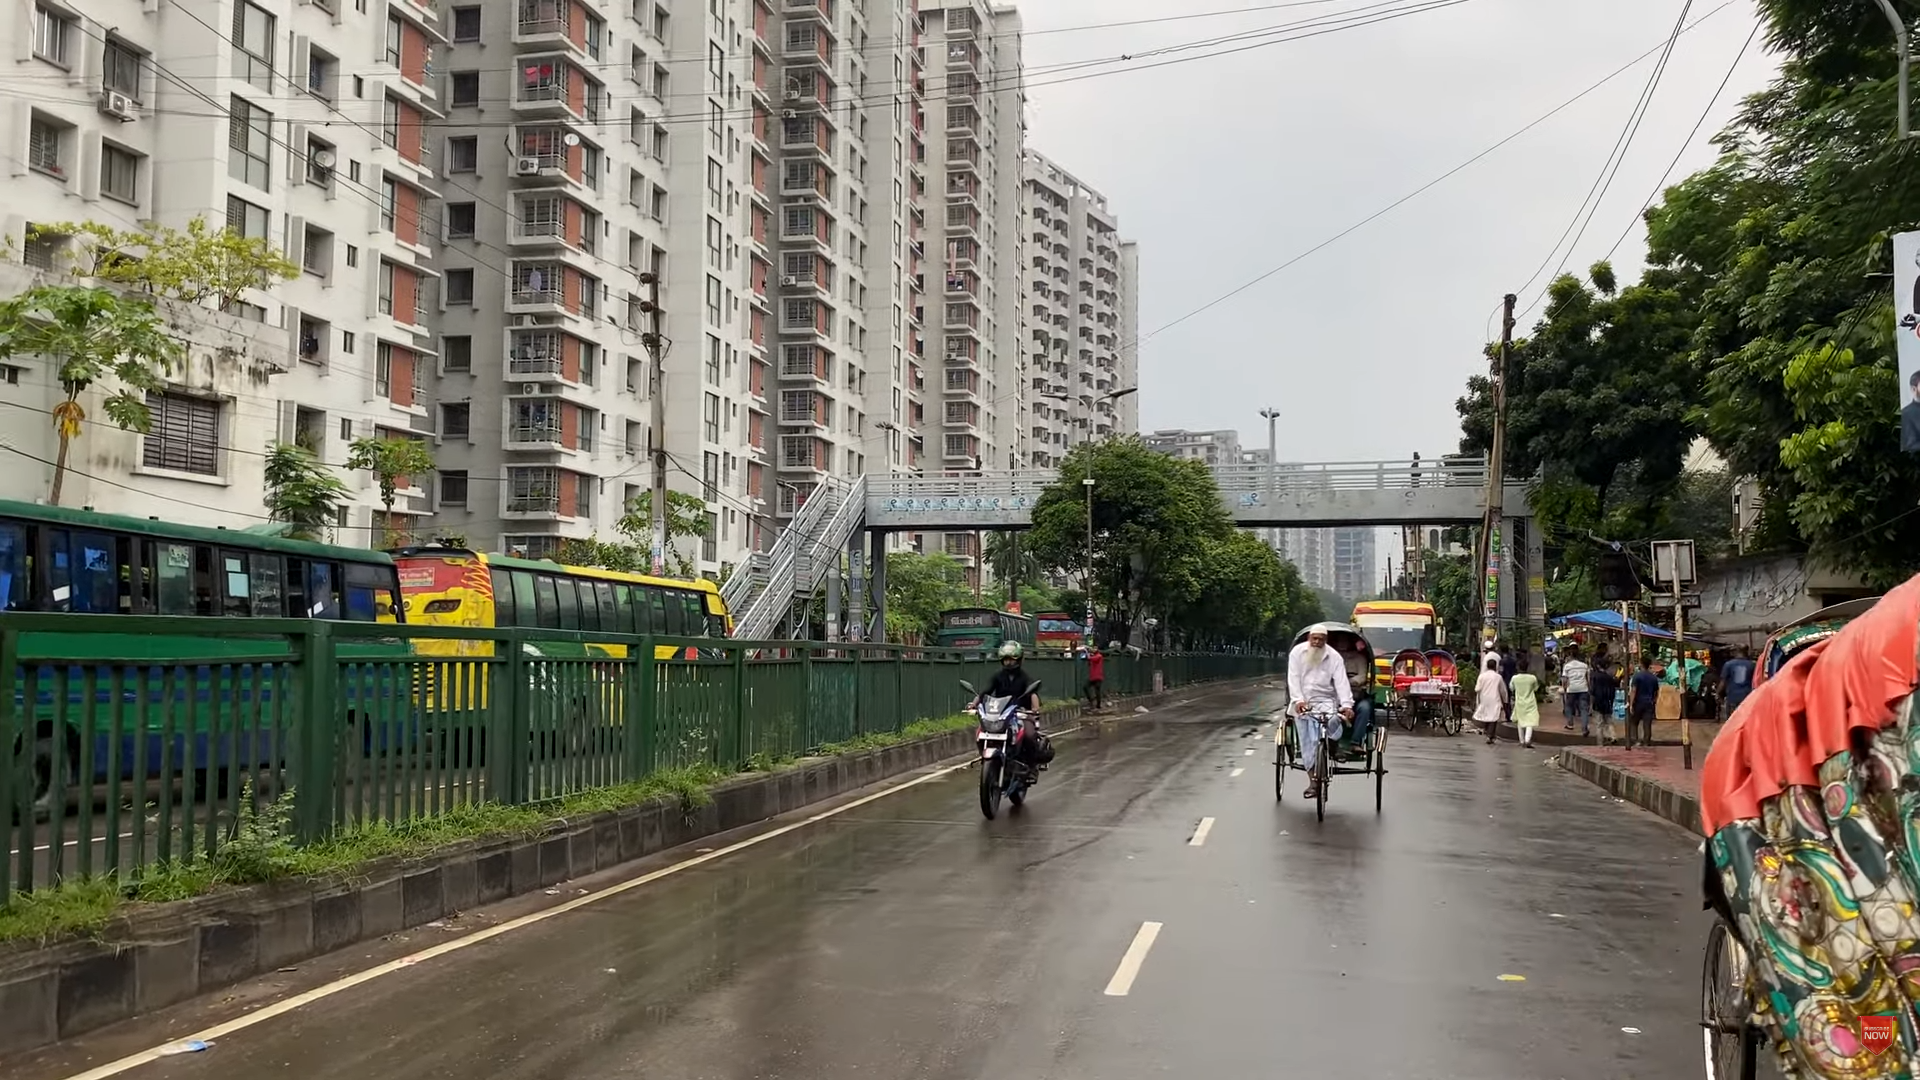Motorcycle: (951, 630, 1065, 824)
Rickshaw: (1254, 618, 1395, 836)
